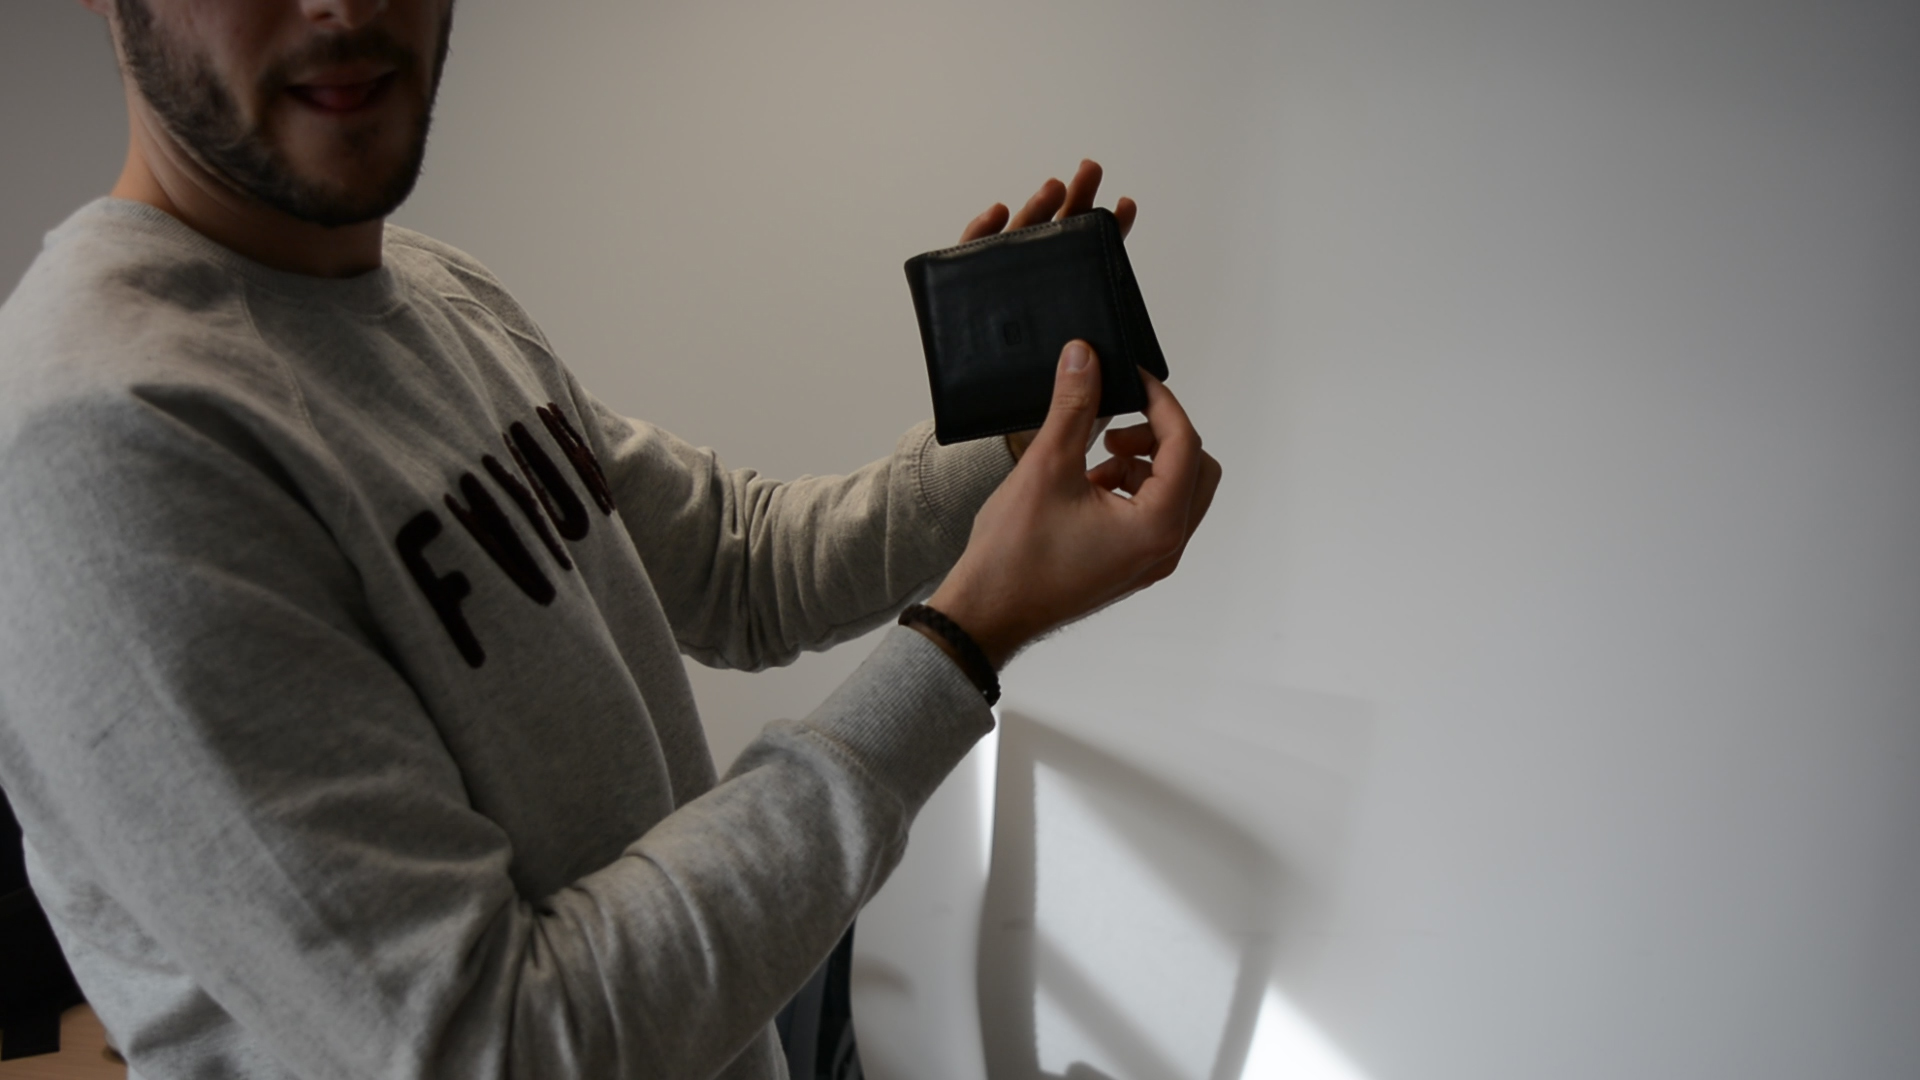monedero: (902, 206, 1171, 447)
